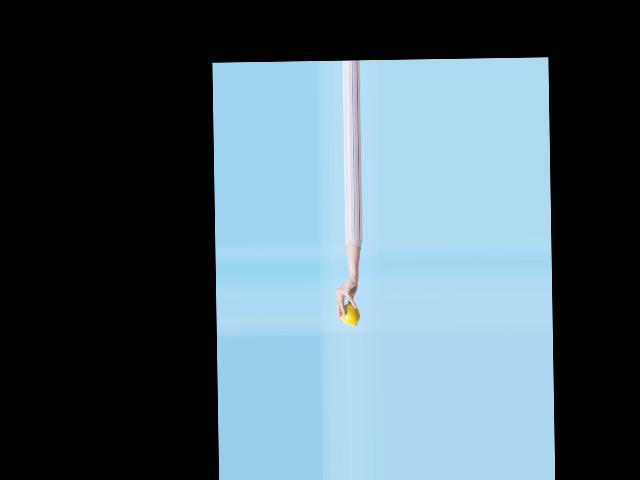lemon: (325, 295, 361, 328)
